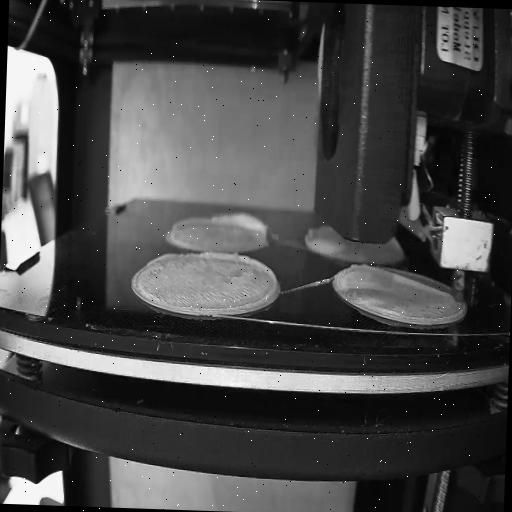over_extrusion: (196, 250, 278, 316), (352, 260, 454, 300), (210, 206, 272, 240), (170, 210, 208, 234), (145, 248, 182, 271)
